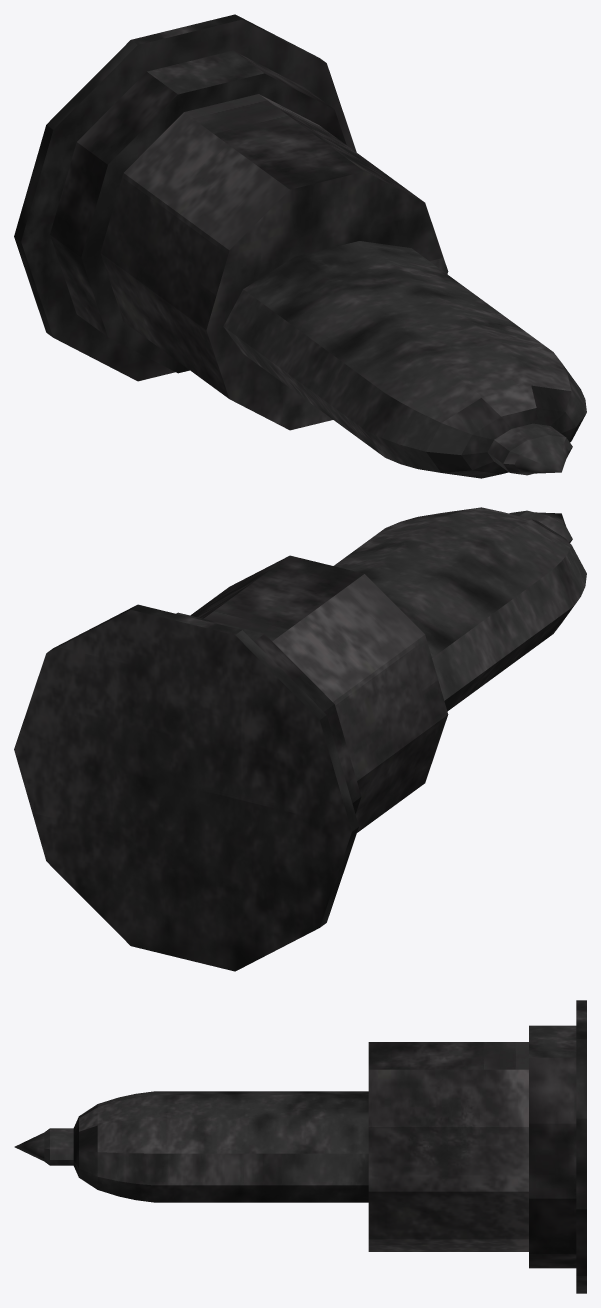
Rendered from hook.fbx.
The picture shows the model from 3 angles, top to bottom: view 1: azimuth 30°, elevation 25°; view 2: azimuth 150°, elevation 25°; view 3: azimuth 270°, elevation 25°; orthographic projection. The views are drawn at different scales.
Parts seen in each view (by area): view 1: hook; view 2: hook; view 3: hook.
Boxes of the visible parts, x1,y1,x2,y2 form: hook: (14, 14, 586, 478); hook: (14, 507, 586, 971); hook: (14, 1000, 586, 1293).
Bounding box in the file's own units: 14.69 × 13.97 × 28.51.
